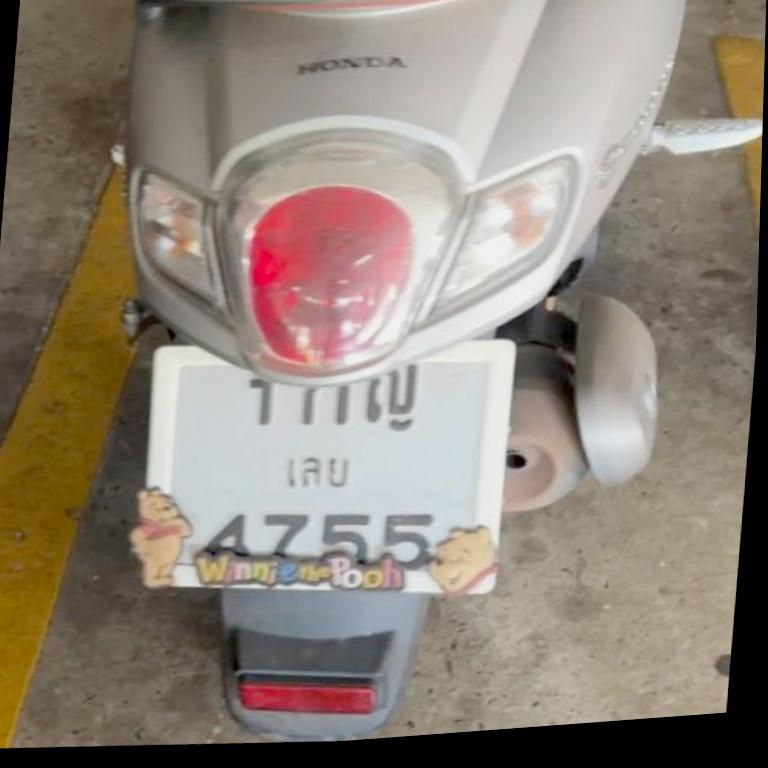license plate: (142, 343, 513, 592)
